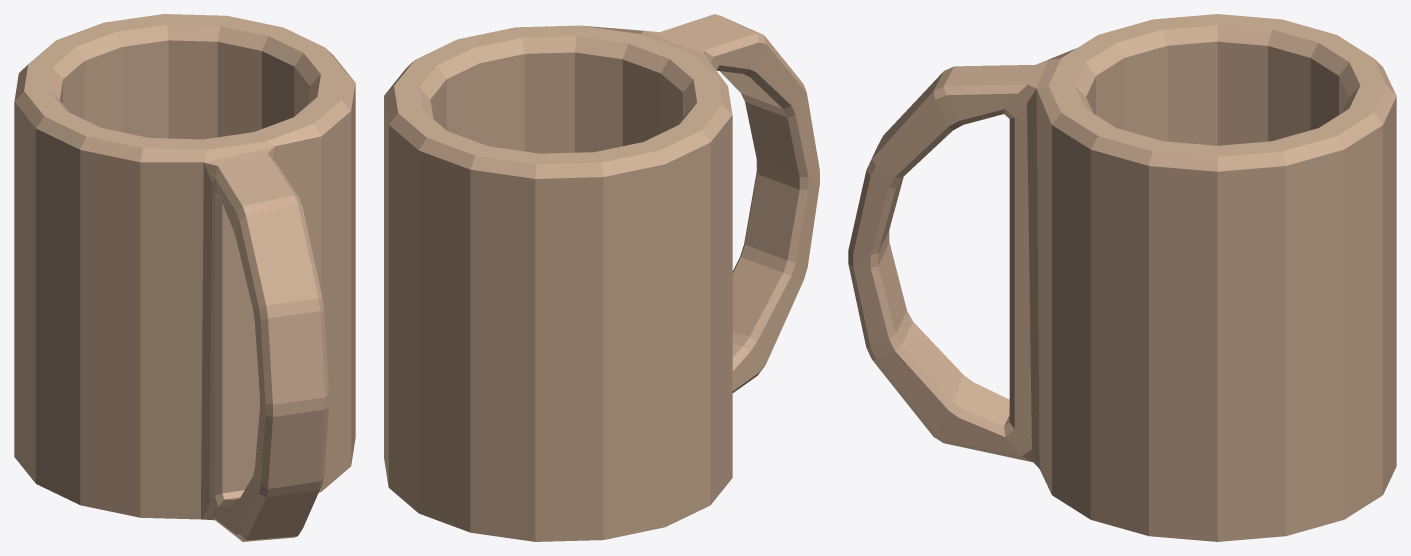
File: Cup.fbx
The picture shows the model from 3 angles, left to right: view 1: azimuth 30°, elevation 25°; view 2: azimuth 150°, elevation 25°; view 3: azimuth 270°, elevation 25°; orthographic projection. The views are drawn at different scales.
Parts seen in each view (by area): view 1: Cup; view 2: Cup; view 3: Cup.
Boxes of the visible parts, x1,y1,x2,y2 form: Cup: (14, 14, 355, 541); Cup: (384, 14, 819, 541); Cup: (848, 14, 1396, 541).
Size of the model in its own units: 200 by 234 by 306.
